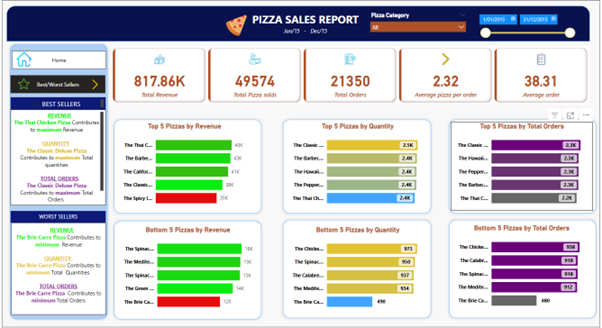

The page's visual inventory and layout, read from the dashboard file:
{"tool":"powerbi","page":{"name":"Best/Worst Sellers","canvas":[1500,820],"ordinal":1},"visuals":[{"type":"cardVisual","fields":{"Data":["pizza_sales.Total Revenue","pizza_sales.Total Pizza solds","pizza_sales.Total Orders","pizza_sales.Average pizza per order","pizza_sales.Average order"]},"box":[272,113.3,1204.2,147.3],"z":0},{"type":"shape","box":[9.7,12.5,1466.7,88.9],"z":1000},{"type":"textbox","box":[609.7,22.2,304.2,52.8],"z":2000},{"type":"textbox","box":[697.2,61.1,129.2,40.3],"z":3000},{"type":"image","box":[527.8,29.2,118.1,63.9],"z":4000},{"type":"shape","box":[272,290.4,386.8,252.2],"z":5000},{"type":"shape","box":[9.9,100.6,262.1,708.4],"z":6000},{"type":"textbox","box":[19.8,242.3,239.4,31.2],"z":7000},{"type":"textbox","box":[19.8,273.4,239.4,240.8],"z":8000},{"type":"textbox","box":[19.8,528.4,239.4,29.8],"z":9000},{"type":"textbox","box":[21.3,558.2,238,230.9],"z":10000},{"type":"slicer","fields":{"Values":["pizza_sales.pizza_category"]},"box":[913.8,22.7,262.1,87.8],"z":11000},{"type":"slicer","fields":{"Values":["pizza_sales.order_date"]},"box":[1185.8,22.7,262.1,87.8],"z":12000},{"type":"shape","box":[697,290.4,388.2,252.2],"z":13000},{"type":"shape","box":[1115,290.4,385.4,252.2],"z":14000},{"type":"shape","box":[272,545.4,386.8,263.5],"z":15000},{"type":"shape","box":[697,542.6,388.2,263.5],"z":16000},{"type":"shape","box":[1115,542.6,385.4,263.5],"z":17000},{"type":"barChart","title":"Top 5 Pizzas by Revenue","fields":{"Category":["pizza_sales.pizza_name"],"Y":["pizza_sales.Total Revenue"]},"box":[286.2,304.6,342.8,223.8],"z":18000},{"type":"barChart","title":"Bottom 5 Pizzas by Revenue","fields":{"Category":["pizza_sales.pizza_name"],"Y":["pizza_sales.Total Revenue"]},"box":[286.2,565.3,359.8,223.8],"z":19000},{"type":"barChart","title":"Top 5 Pizzas by Quantity","fields":{"Category":["pizza_sales.pizza_name"],"Y":["pizza_sales.Total Pizza solds"]},"box":[712.6,304.6,361.3,223.8],"z":20000},{"type":"barChart","title":"Bottom 5 Pizzas by Quantity","fields":{"Category":["pizza_sales.pizza_name"],"Y":["pizza_sales.Total Pizza solds"]},"box":[712.6,565.3,361.3,223.8],"z":21000},{"type":"barChart","title":"Top 5 Pizzas by Total Orders","fields":{"Category":["pizza_sales.pizza_name"],"Y":["pizza_sales.Total Orders"]},"box":[1127.7,304.6,357,223.8],"z":22000},{"type":"barChart","title":"Bottom 5 Pizzas by Total Orders","fields":{"Category":["pizza_sales.pizza_name"],"Y":["pizza_sales.Total Orders"]},"box":[1127.7,561,355.6,225.3],"z":23000},{"type":"pageNavigator","box":[19.8,187,238,45.3],"z":24000},{"type":"pageNavigator","box":[22.7,126.1,238,45.3],"z":25000},{"type":"image","box":[206.8,192.7,51,35.4],"z":26000},{"type":"image","box":[34,187,38.3,43.9],"z":27000},{"type":"image","box":[28.3,123.3,51,48.2],"z":28000}]}

Visuals, with their boxes in screenshot pixels (x1, y1, x2, y2), scaled from the page's 1500x820 canvas onto the 602x328 screenshot:
cardVisual - pizza_sales.Total Revenue x pizza_sales.Total Pizza solds: x1=109 y1=45 x2=592 y2=104
shape: x1=4 y1=5 x2=593 y2=41
textbox: x1=245 y1=9 x2=367 y2=30
textbox: x1=280 y1=24 x2=332 y2=41
image: x1=212 y1=12 x2=259 y2=37
shape: x1=109 y1=116 x2=264 y2=217
shape: x1=4 y1=40 x2=109 y2=324
textbox: x1=8 y1=97 x2=104 y2=109
textbox: x1=8 y1=109 x2=104 y2=206
textbox: x1=8 y1=211 x2=104 y2=223
textbox: x1=9 y1=223 x2=104 y2=316
slicer - pizza_sales.pizza_category: x1=367 y1=9 x2=472 y2=44
slicer - pizza_sales.order_date: x1=476 y1=9 x2=581 y2=44
shape: x1=280 y1=116 x2=436 y2=217
shape: x1=447 y1=116 x2=601 y2=217
shape: x1=109 y1=218 x2=264 y2=324
shape: x1=280 y1=217 x2=436 y2=322
shape: x1=447 y1=217 x2=601 y2=322
"Top 5 Pizzas by Revenue" barChart: x1=115 y1=122 x2=252 y2=211
"Bottom 5 Pizzas by Revenue" barChart: x1=115 y1=226 x2=259 y2=316
"Top 5 Pizzas by Quantity" barChart: x1=286 y1=122 x2=431 y2=211
"Bottom 5 Pizzas by Quantity" barChart: x1=286 y1=226 x2=431 y2=316
"Top 5 Pizzas by Total Orders" barChart: x1=453 y1=122 x2=596 y2=211
"Bottom 5 Pizzas by Total Orders" barChart: x1=453 y1=224 x2=595 y2=315
pageNavigator: x1=8 y1=75 x2=103 y2=93
pageNavigator: x1=9 y1=50 x2=105 y2=69
image: x1=83 y1=77 x2=103 y2=91
image: x1=14 y1=75 x2=29 y2=92
image: x1=11 y1=49 x2=32 y2=69
